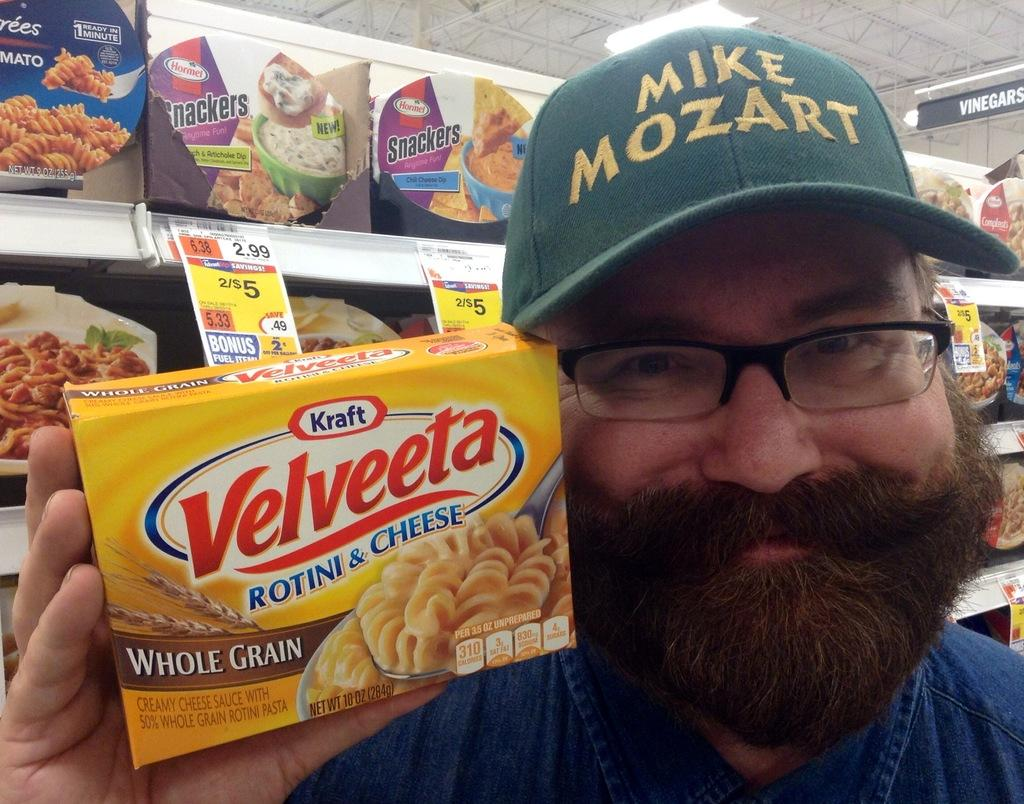Hat: (502, 22, 1018, 334)
